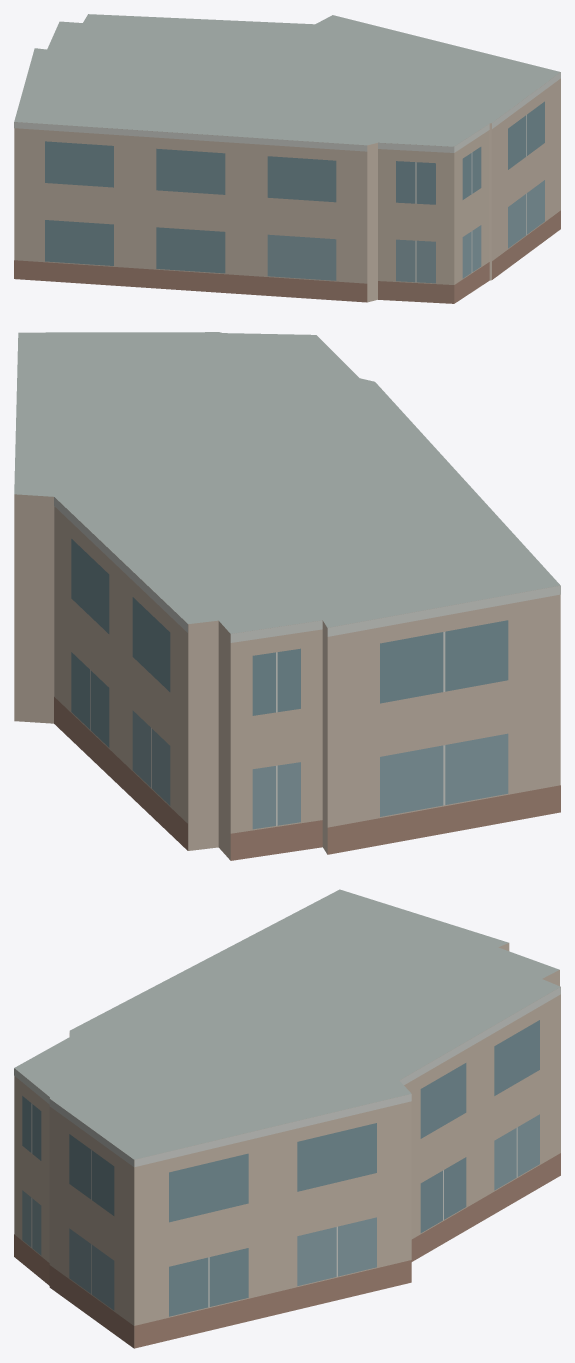
The model's file is survey-upis-32967320.glb.
3 renders of one model, top to bottom at view 1: azimuth 30°, elevation 25°; view 2: azimuth 150°, elevation 25°; view 3: azimuth 270°, elevation 25°, orthographic. The views are drawn at different scales.
Parts seen in each view (by area): view 1: survey-upis-32967320.tmp; view 2: survey-upis-32967320.tmp; view 3: survey-upis-32967320.tmp.
Boxes of the visible parts, left/top/right/bottom form: survey-upis-32967320.tmp: left=14, top=14, right=560, bottom=303; survey-upis-32967320.tmp: left=14, top=332, right=560, bottom=860; survey-upis-32967320.tmp: left=14, top=889, right=560, bottom=1348.
Size of the model in its own units: 18.75 by 6.1 by 16.02.
